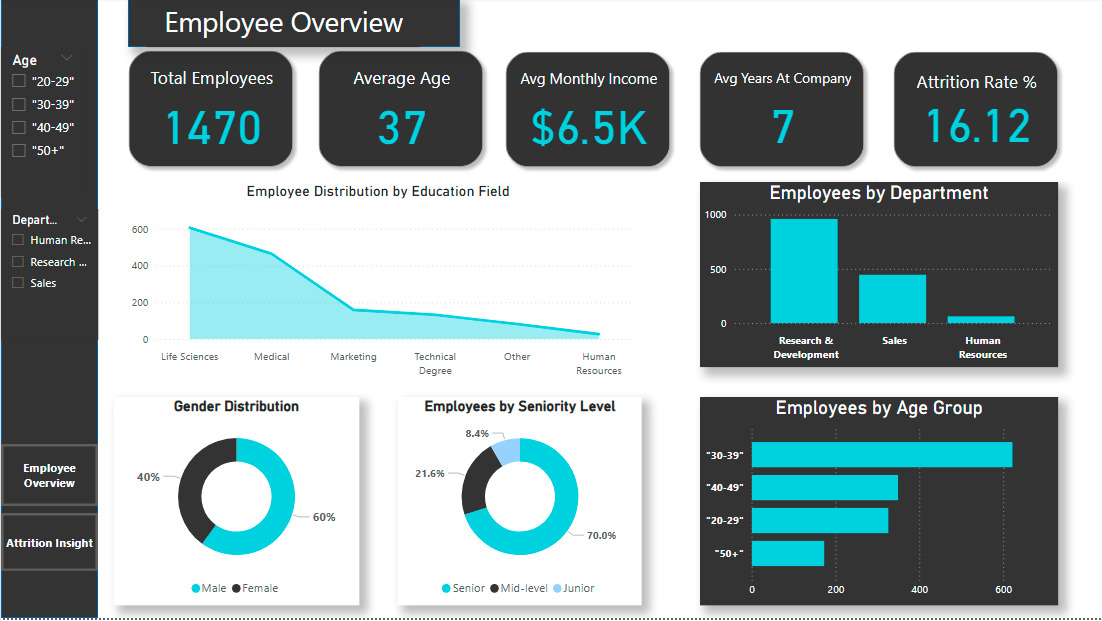

Layout of this report page (visuals, bound fields, positions):
{"tool":"powerbi","page":{"name":"Employee Overview","canvas":[1280,720],"ordinal":0},"visuals":[{"type":"shape","box":[0,0,112.7,720.1],"z":0,"group":"g1"},{"type":"cardVisual","fields":{"Data":["Measure Table.Total Employees"]},"box":[131.3,44.1,225.3,169.6],"z":0},{"type":"cardVisual","fields":{"Data":["Measure Table.Avg Age"]},"box":[351.9,44.1,225,169.6],"z":1000},{"type":"actionButton","title":"Employee Overview","box":[0,518,112.7,72],"z":1000,"group":"g1"},{"type":"cardVisual","fields":{"Data":["Measure Table.Avg Years At Company"]},"box":[794.5,45.3,225.3,168.4],"z":2000},{"type":"actionButton","box":[0,598.2,112.7,67.4],"z":2000,"group":"g1"},{"type":"cardVisual","fields":{"Data":["Measure Table.Avg Monthly Income"]},"box":[569.1,45.3,225.3,168.4],"z":3000},{"type":"donutChart","title":"Gender Distribution","fields":{"Category":["HR_Employee.Gender"],"Y":["CountNonNull(HR_Employee.Gender)"]},"box":[131.3,463.4,284.6,241.6],"z":4000},{"type":"clusteredColumnChart","title":"Employees by Department","fields":{"Category":["HR_Employee.Department"],"Y":["Measure Table.Total Employees"]},"box":[811.9,213.7,415.8,214.9],"z":5000},{"type":"areaChart","title":"Employee Distribution by Education Field","fields":{"Y":["Measure Table.Total Employees"],"Category":["HR_Employee.EducationField"]},"box":[131.3,213.7,613.3,233.5],"z":6000},{"type":"donutChart","title":"Employees by Seniority Level","fields":{"Category":["HR_Employee.Seniority Level"],"Y":["Measure Table.Total Employees"]},"box":[461.1,463.4,283.4,241.6],"z":7000},{"type":"group","id":"g1","title":"navBar","box":[0,0,112.7,720.1],"z":8000},{"type":"cardVisual","fields":{"Data":["Measure Table.Attrition Rate %"]},"box":[1019.8,45.3,225.3,168.4],"z":9000},{"type":"clusteredBarChart","title":"Employees by Age Group","fields":{"Y":["Measure Table.Total Employees"],"Category":["HR_Employee.Age Group"]},"box":[812,463,416,242],"z":10000},{"type":"shape","box":[147.5,0,385.6,56.9],"z":11000},{"type":"textbox","box":[169.6,0,317.1,56.9],"z":12000},{"type":"slicer","fields":{"Values":["HR_Employee.Age Group"]},"box":[0,56.9,96.4,175.4],"z":13000},{"type":"slicer","fields":{"Values":["HR_Employee.Department"]},"box":[0,245.1,112.7,152.2],"z":14000}]}

Visuals, with their boxes on the page's 1280x720 design canvas (x1, y1, x2, y2). These are canvas units, not pixel positions in the 1102x621 screenshot, which may show the page scaled, cropped or inside an application window:
shape: <region>0, 0, 113, 720</region>
cardVisual - Measure Table.Total Employees: <region>131, 44, 357, 214</region>
cardVisual - Measure Table.Avg Age: <region>352, 44, 577, 214</region>
"Employee Overview" actionButton: <region>0, 518, 113, 590</region>
cardVisual - Measure Table.Avg Years At Company: <region>794, 45, 1020, 214</region>
actionButton: <region>0, 598, 113, 666</region>
cardVisual - Measure Table.Avg Monthly Income: <region>569, 45, 794, 214</region>
"Gender Distribution" donutChart: <region>131, 463, 416, 705</region>
"Employees by Department" clusteredColumnChart: <region>812, 214, 1228, 429</region>
"Employee Distribution by Education Field" areaChart: <region>131, 214, 745, 447</region>
"Employees by Seniority Level" donutChart: <region>461, 463, 744, 705</region>
"navBar" group: <region>0, 0, 113, 720</region>
cardVisual - Measure Table.Attrition Rate %: <region>1020, 45, 1245, 214</region>
"Employees by Age Group" clusteredBarChart: <region>812, 463, 1228, 705</region>
shape: <region>148, 0, 533, 57</region>
textbox: <region>170, 0, 487, 57</region>
slicer - HR_Employee.Age Group: <region>0, 57, 96, 232</region>
slicer - HR_Employee.Department: <region>0, 245, 113, 397</region>
